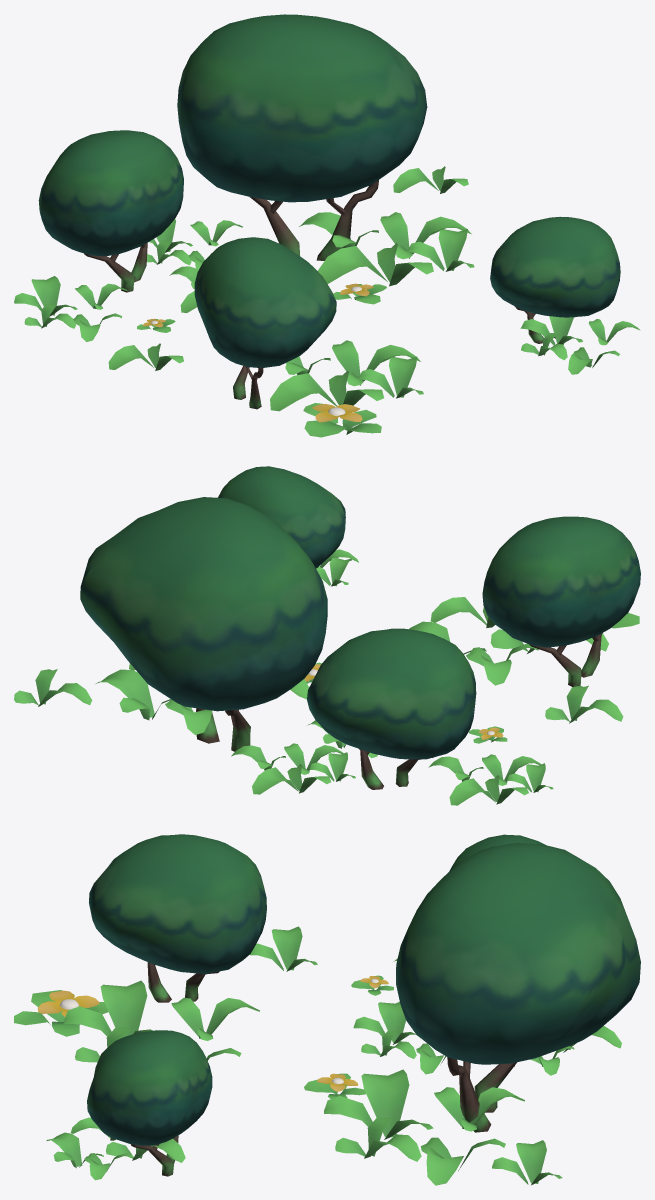
The model's file is ground_grass_03.fbx.
3 renders of one model, top to bottom at view 1: azimuth 30°, elevation 25°; view 2: azimuth 150°, elevation 25°; view 3: azimuth 270°, elevation 25°, orthographic. The views are drawn at different scales.
Parts seen in each view (by area): view 1: ground_grass_03; view 2: ground_grass_03; view 3: ground_grass_03.
Part boxes in pixels (x1,y1,x2,y2): ground_grass_03: (14, 14, 640, 437); ground_grass_03: (14, 466, 640, 805); ground_grass_03: (14, 834, 640, 1185).
Size of the model in its own units: 886 by 429 by 931.
